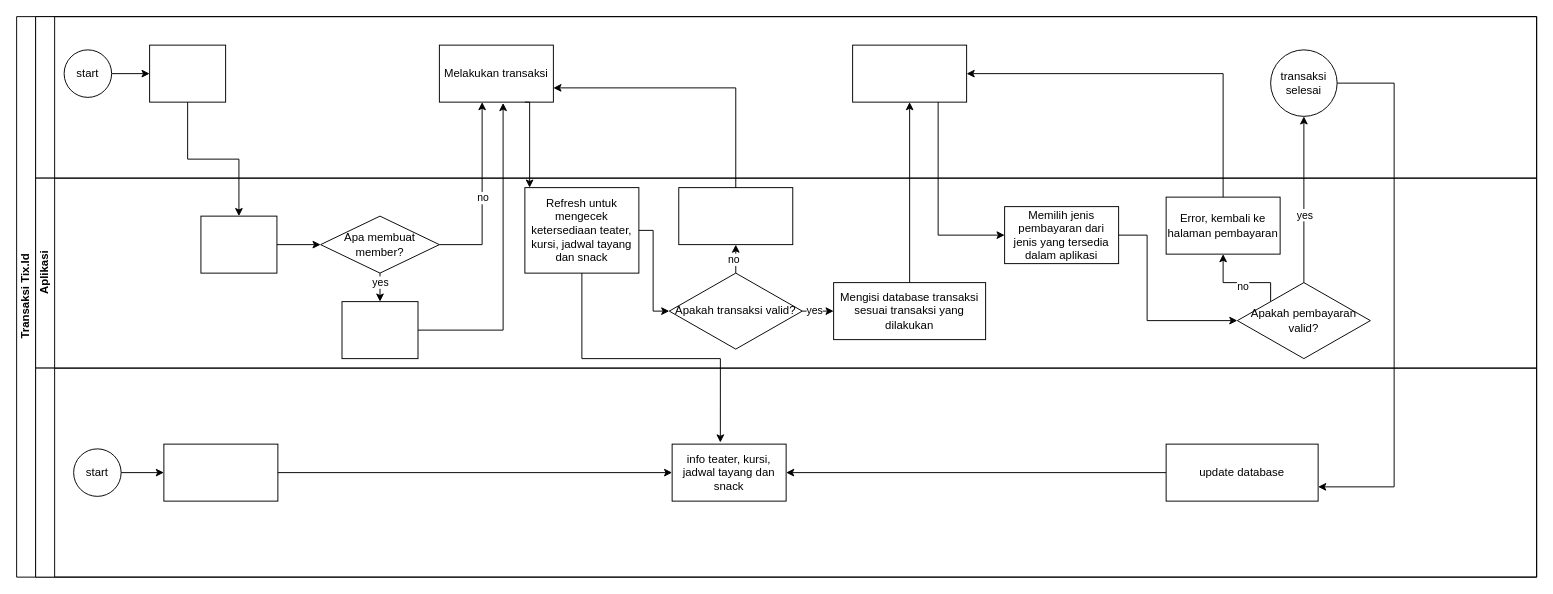
The diagram is 1553 pixels wide and 594 high, and some of its shapes have lost their labels. The shapes that lost their labels are listed below. From the top down, each one's box as (x1, y1, x2, y2) in pixels, then its label:
(149, 44, 226, 102): melakukan pendaftaran
(852, 44, 967, 102): Melakukan pembayaran
(35, 16, 1537, 178): Pengguna
(678, 187, 793, 245): Error, kembali ke halaman transaksi
(200, 215, 277, 273): Mengisi database pengguna
(341, 301, 418, 359): Mengisi database membership
(163, 443, 278, 501): mengisi info studio dan lokasinya
(35, 367, 1537, 577): Database Bioskop
